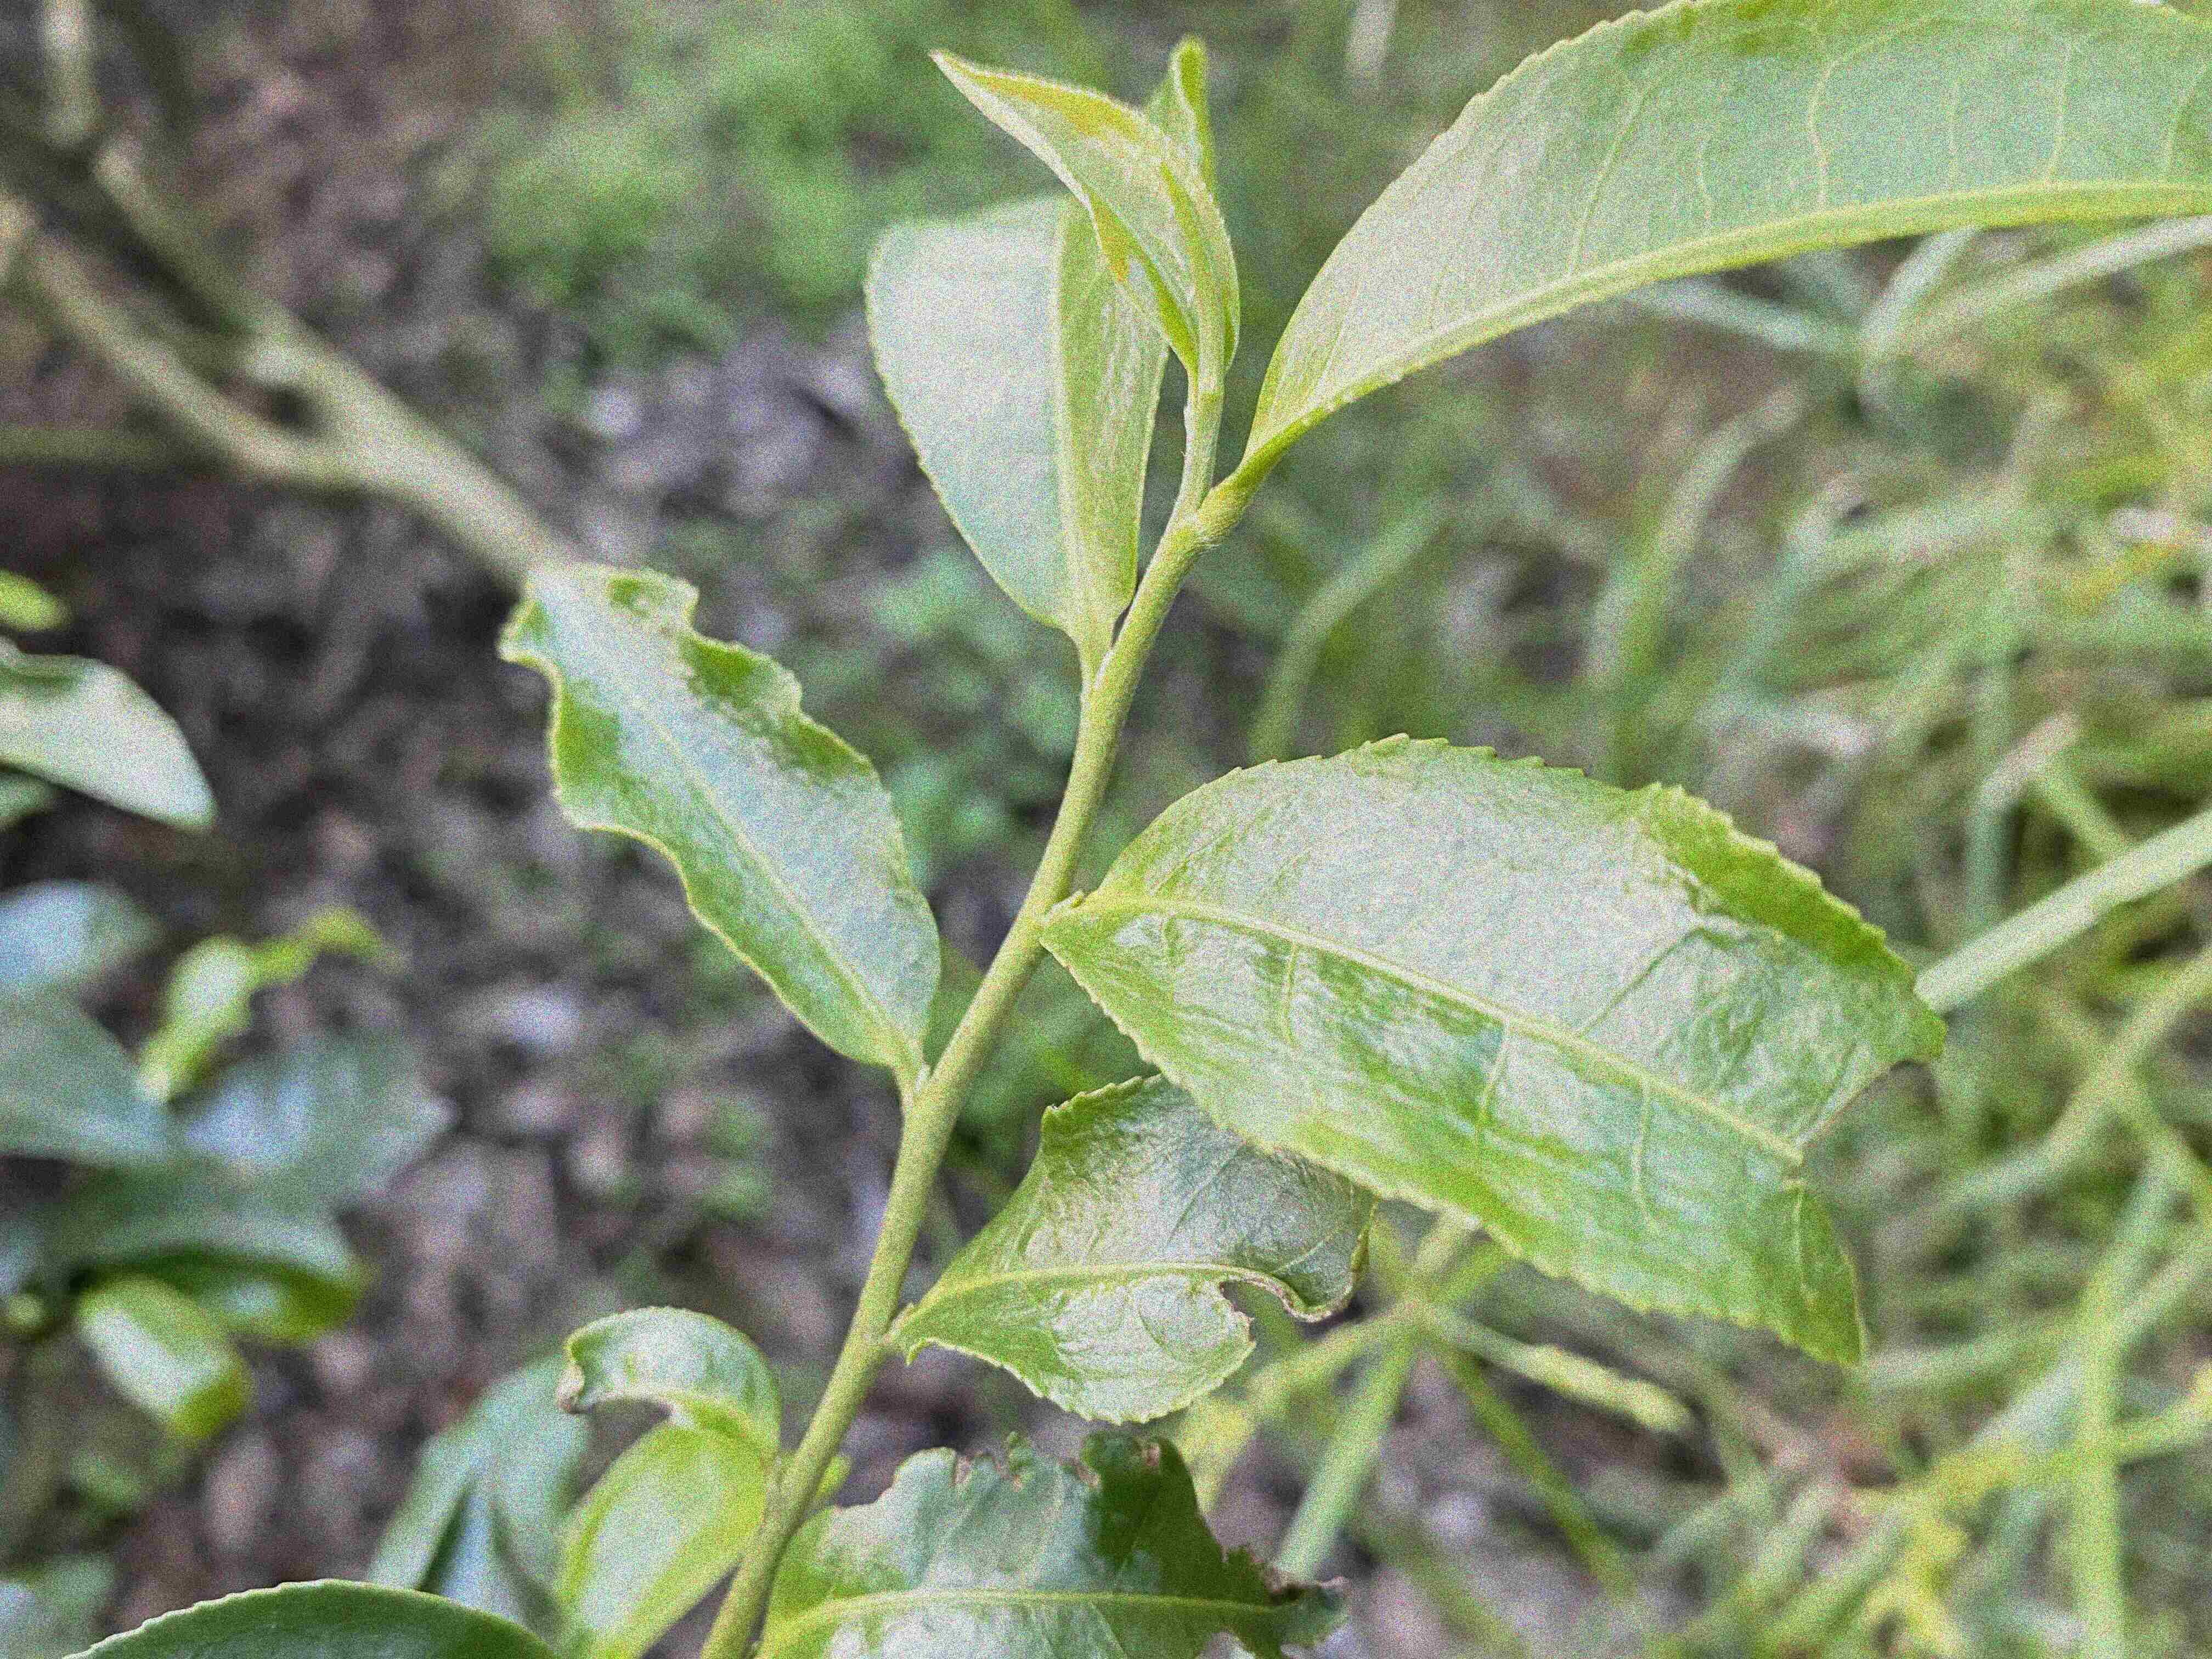chihuo_high: (1035, 727, 1951, 1368), (486, 559, 942, 1065), (907, 1068, 1379, 1427), (754, 1429, 1357, 1657)
healthy: (1244, 3, 2212, 477), (860, 44, 1216, 640), (930, 49, 1247, 390)
